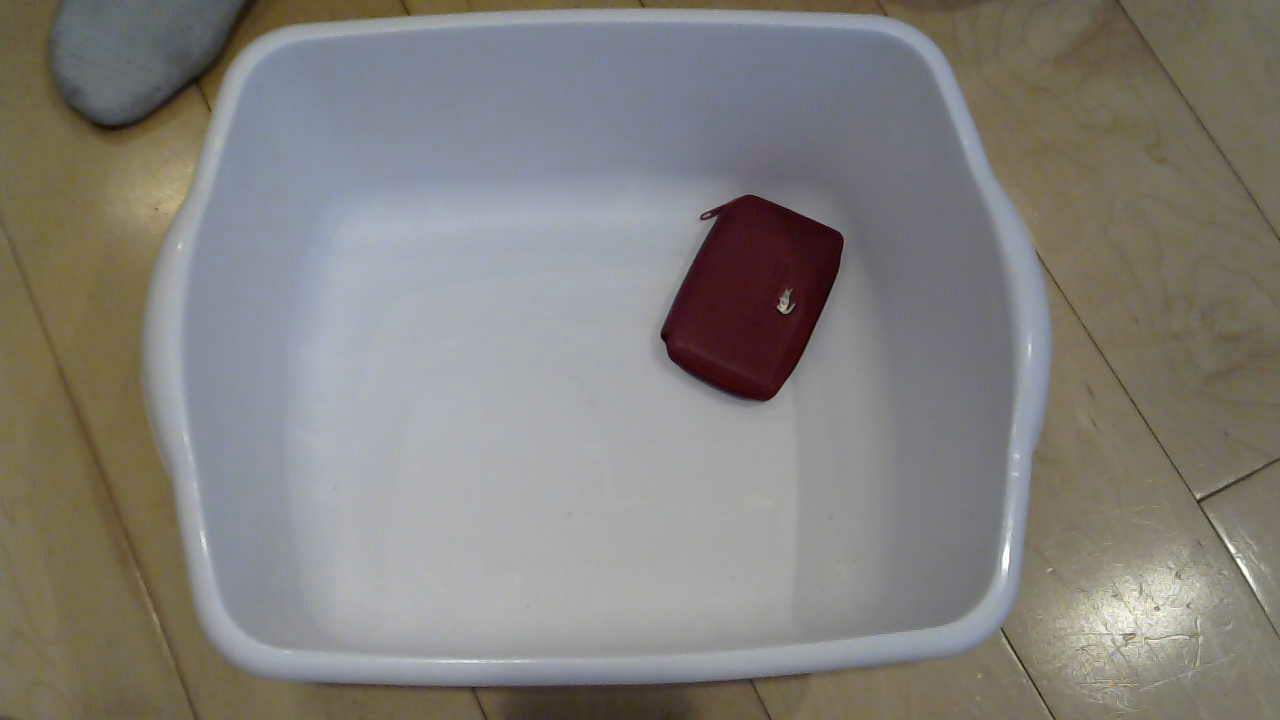wallet: (634, 183, 870, 423)
